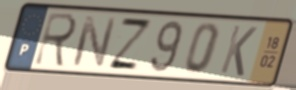0: (183, 20, 222, 77)
9: (147, 19, 185, 75)
K: (217, 23, 260, 79)
N: (69, 14, 118, 70)
R: (31, 10, 80, 69)
Z: (105, 16, 155, 73)
